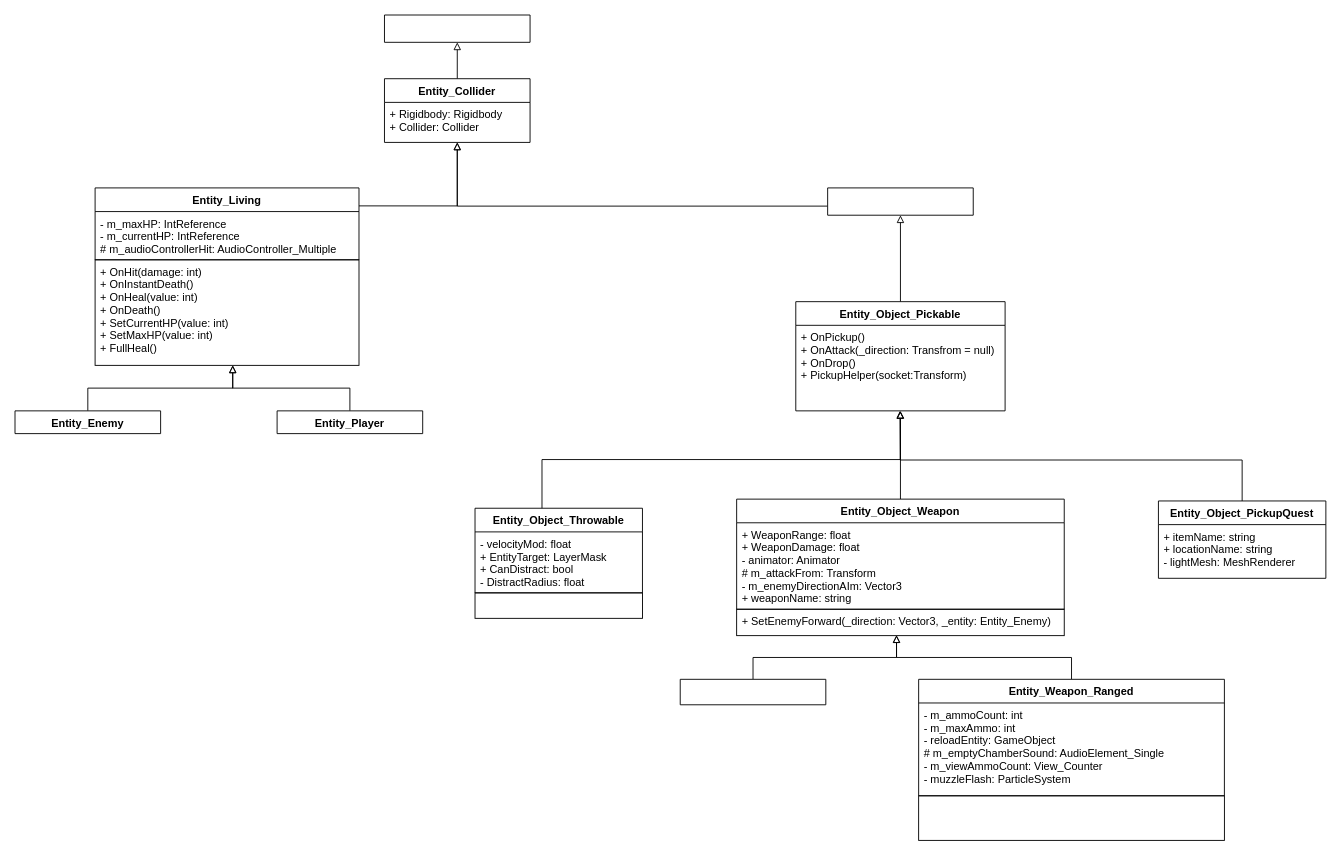
Some shapes in this 1340 by 855 pixel diagram are drawn without their labels. Each missing label, with the centre of its shape:
+ Reload() + AE_OnBecomeThrowable(distractRadius: float): (1071,817)
- StartDetectEnemies(): (558,605)
Entity_Object_Physical: (900,201)
Entity_Origin: (457,28)
Entity_Weapon_Melee: (752,691)
